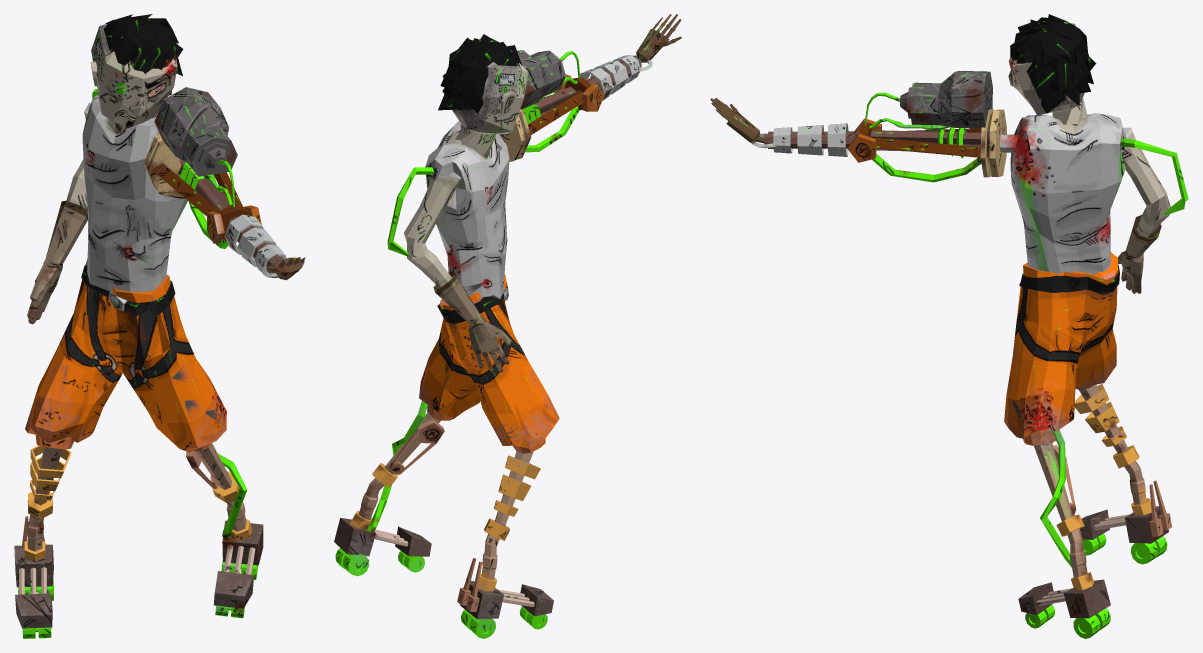
File: CyborgFINALAnimation_000025.obj
3 views of the same model, side by side, from view 1: azimuth 30°, elevation 25°; view 2: azimuth 150°, elevation 25°; view 3: azimuth 270°, elevation 25° (orthographic). The views are drawn at different scales.
Parts seen in each view (by area): view 1: CyborgMesh_Cube.002; view 2: CyborgMesh_Cube.002; view 3: CyborgMesh_Cube.002.
Boxes of the visible parts, x1=… form: CyborgMesh_Cube.002: x1=14, y1=14, x2=305, y2=638; CyborgMesh_Cube.002: x1=334, y1=14, x2=681, y2=638; CyborgMesh_Cube.002: x1=710, y1=14, x2=1188, y2=638.
Bounding box in the file's own units: 3.88 × 9.42 × 7.22.
